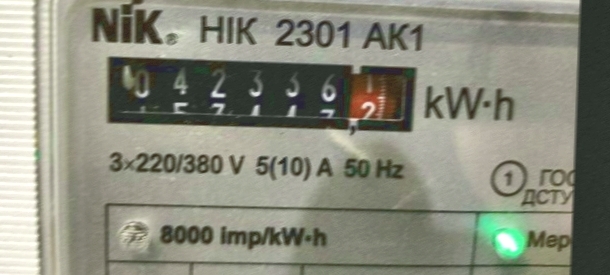0: (131, 68, 151, 102)
1: (361, 70, 374, 97)
2: (207, 67, 229, 102), (357, 101, 375, 123)
3: (244, 67, 263, 100), (283, 69, 301, 101)
4: (171, 65, 189, 98)
6: (318, 72, 339, 107)
screen: (91, 44, 430, 147)
